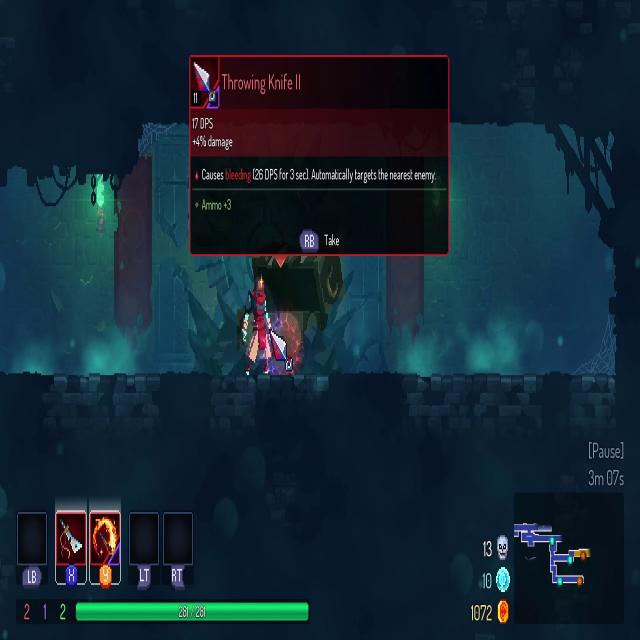agents: (244, 274, 277, 380)
